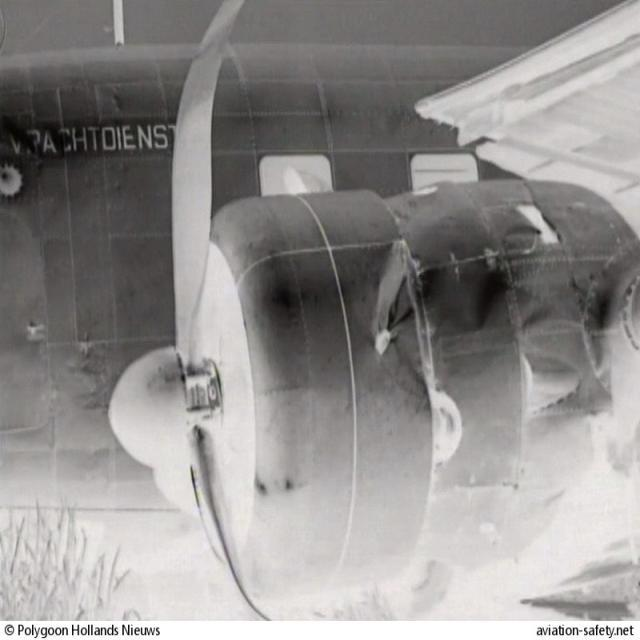dent: (367, 277, 410, 343)
